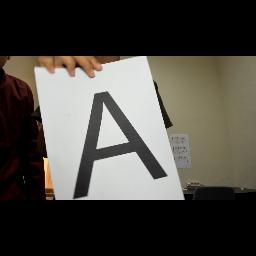a: (62, 86, 174, 200)
